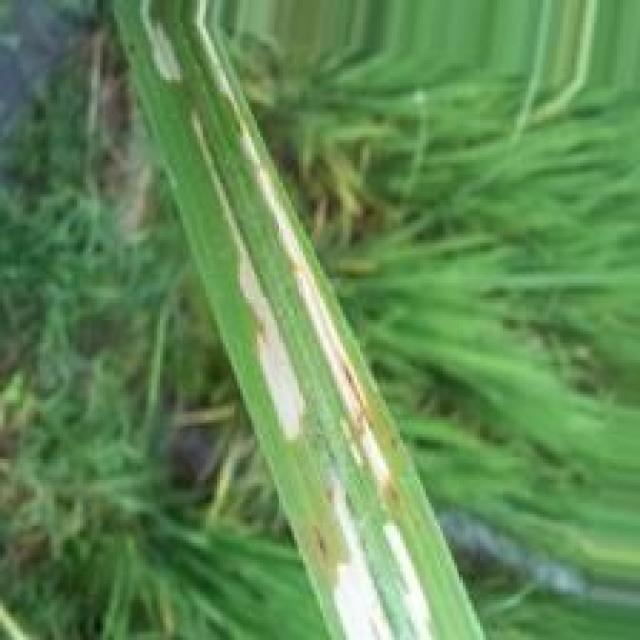Rice_Hispa: (244, 139, 390, 490), (331, 460, 407, 640), (235, 230, 301, 436), (383, 521, 430, 631)
